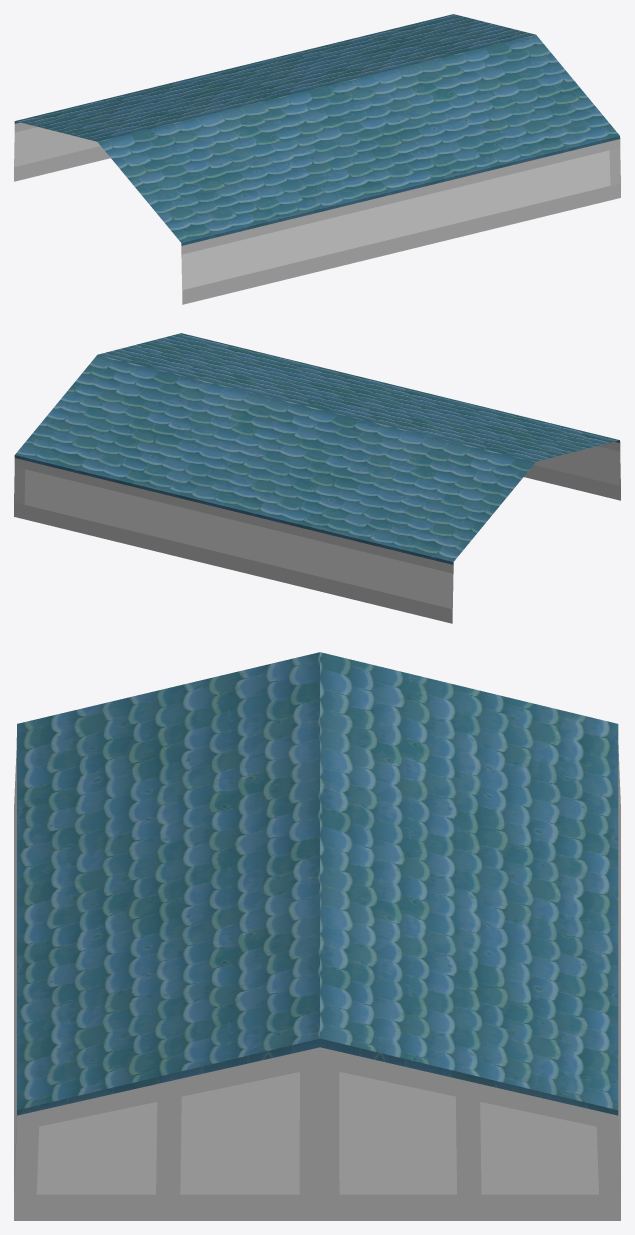
File: KitckenRoof.fbx
3 views of the same model, one above another, from view 1: azimuth 30°, elevation 25°; view 2: azimuth 150°, elevation 25°; view 3: azimuth 270°, elevation 25° (orthographic). The views are drawn at different scales.
Parts seen in each view (by area): view 1: KitckenRoof; view 2: KitckenRoof; view 3: KitckenRoof.
Part boxes in pixels (left/top/right/bottom): KitckenRoof: left=14, top=14, right=620, bottom=304; KitckenRoof: left=14, top=333, right=620, bottom=623; KitckenRoof: left=14, top=652, right=620, bottom=1220.
Bounding box in the file's own units: 906 × 199 × 602.
